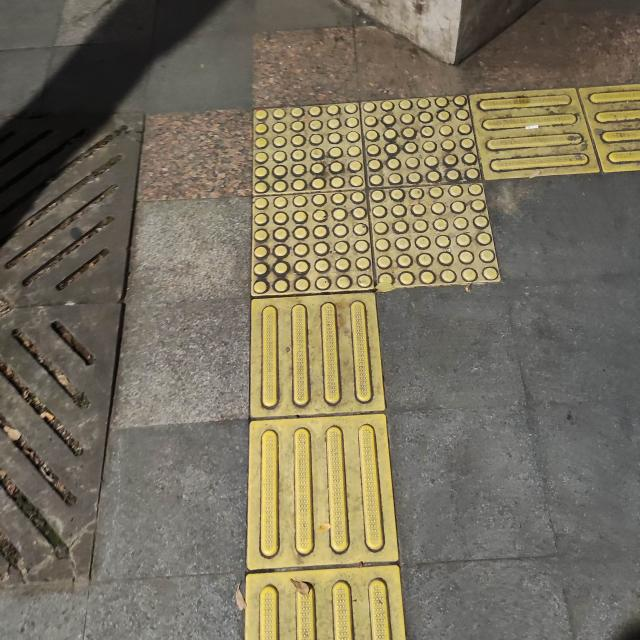kanan: (193, 46, 640, 373)
